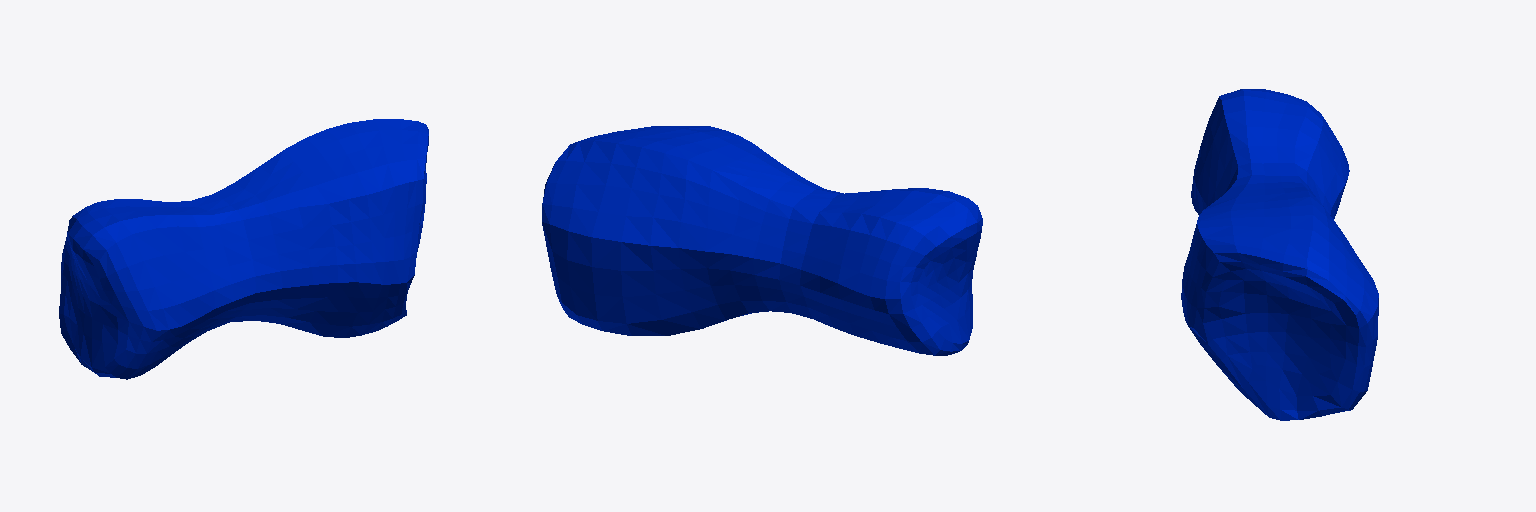
File: R_U_Arm.obj
The picture shows the model from 3 angles: view 1: azimuth 30°, elevation 25°; view 2: azimuth 150°, elevation 25°; view 3: azimuth 270°, elevation 25°; orthographic projection.
Visible parts, largest first — view 1: R_U_Arm_Alpha_Surface.030; view 2: R_U_Arm_Alpha_Surface.030; view 3: R_U_Arm_Alpha_Surface.030.
Part boxes in pixels (x1,y1,x2,y2): R_U_Arm_Alpha_Surface.030: (59,119,428,379); R_U_Arm_Alpha_Surface.030: (542,126,982,355); R_U_Arm_Alpha_Surface.030: (1181,89,1378,420).
Size of the model in its own units: 0.2959 by 0.1392 by 0.1325.